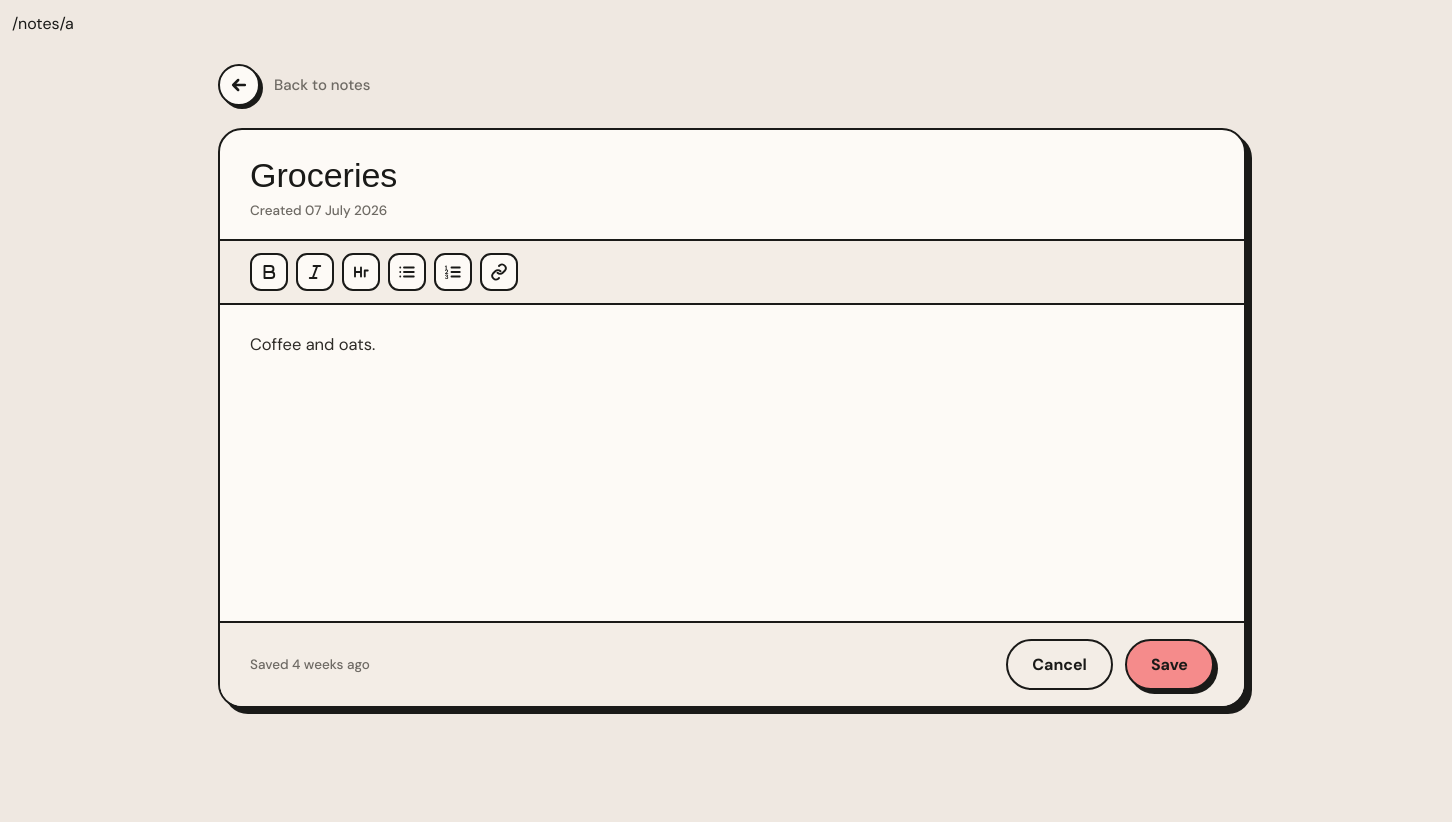
Test: NoteEditorPage › editing an existing note › reports the reason when the save is refused, and keeps the edit
Type " extra" into the field named "Note title" at [732, 176], box x1=250 y1=156 x2=1214 y2=195
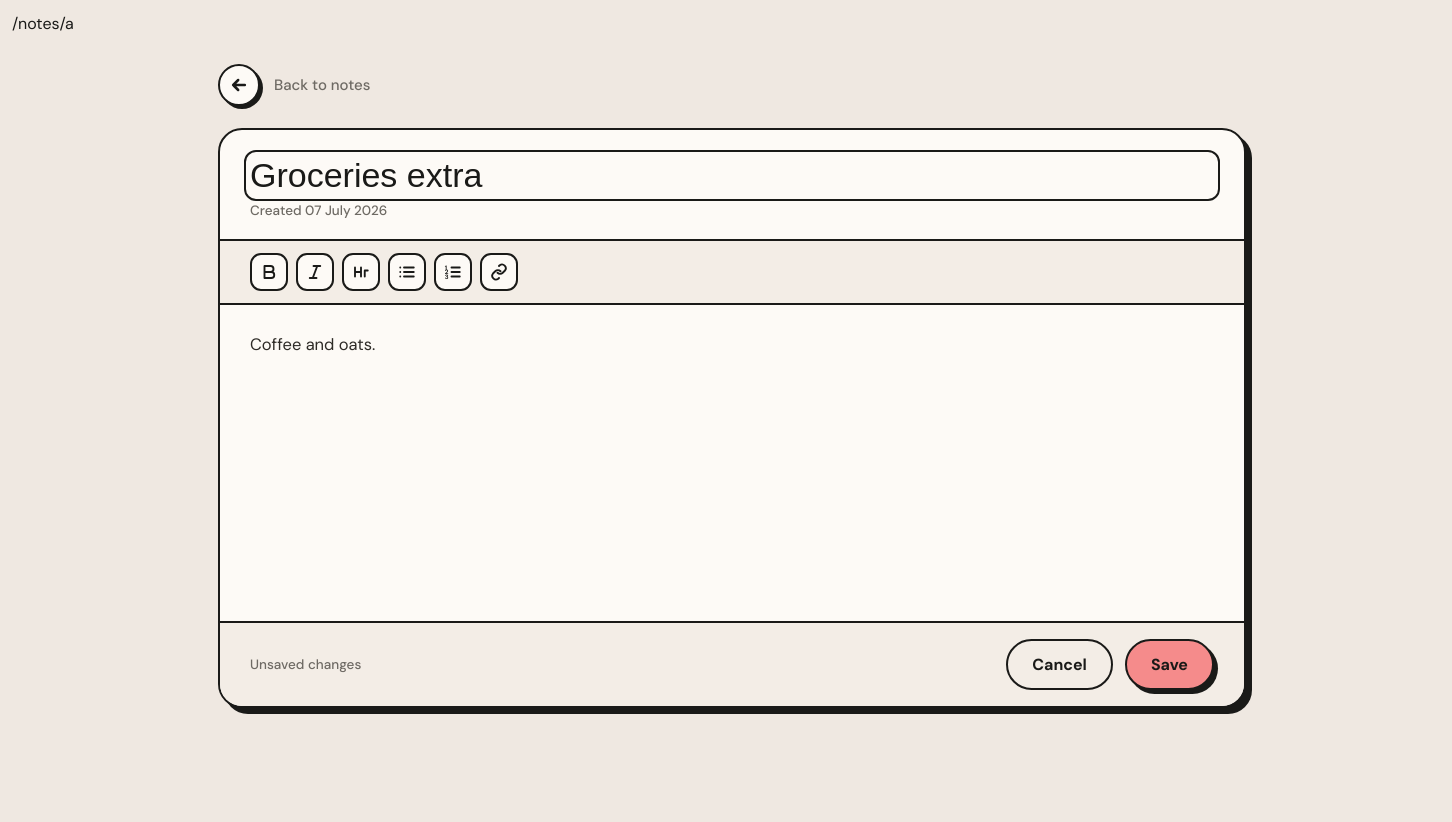
Click the button "Save" at [1169, 665], box x1=1125 y1=639 x2=1214 y2=690
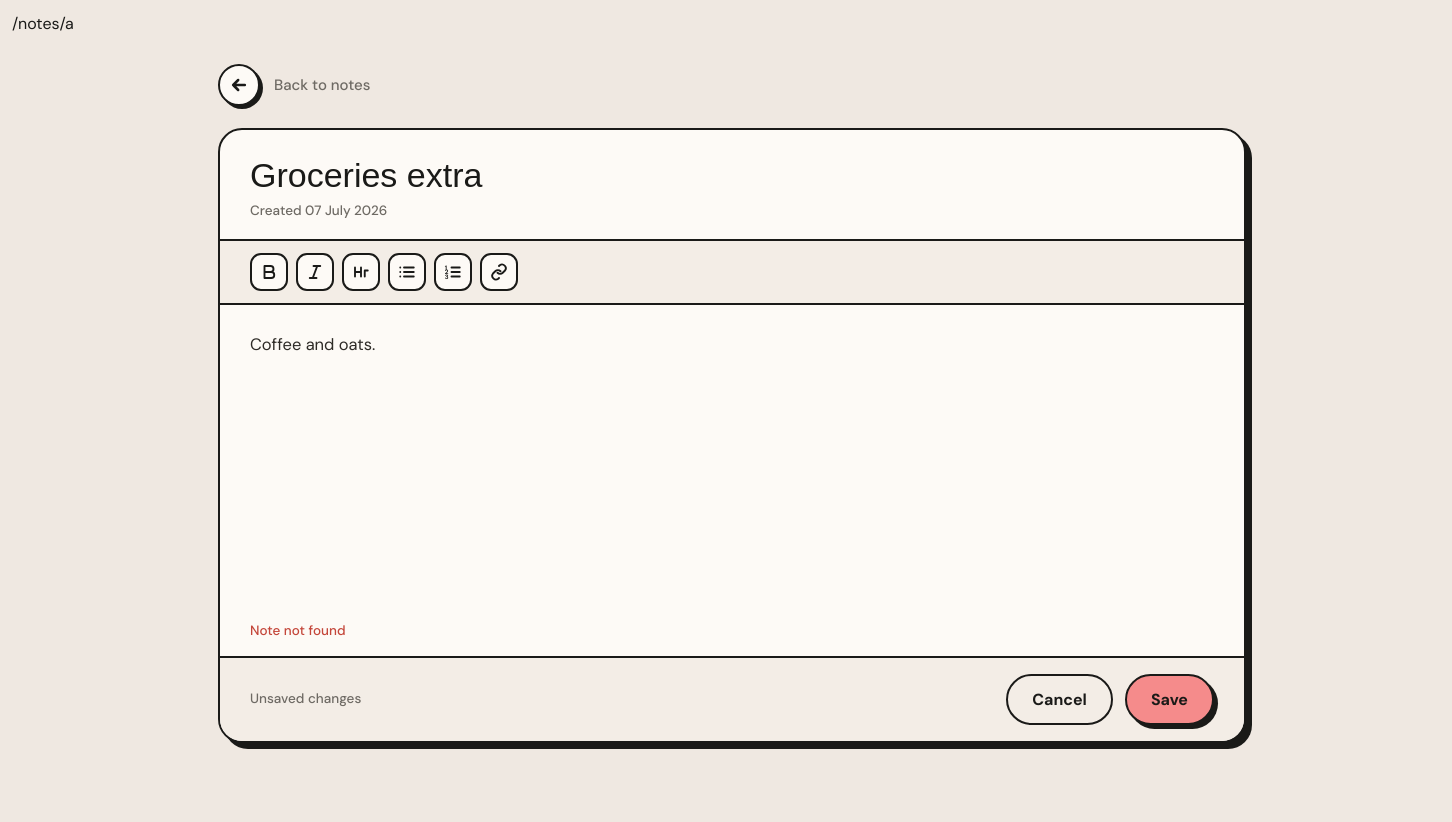
Now the field named "Note title" holds "Groceries extra", box x1=250 y1=156 x2=1214 y2=195
Now the text "Unsaved changes" is shown, box x1=250 y1=689 x2=361 y2=709
Now the message reads "Note not found", box x1=250 y1=622 x2=346 y2=639
